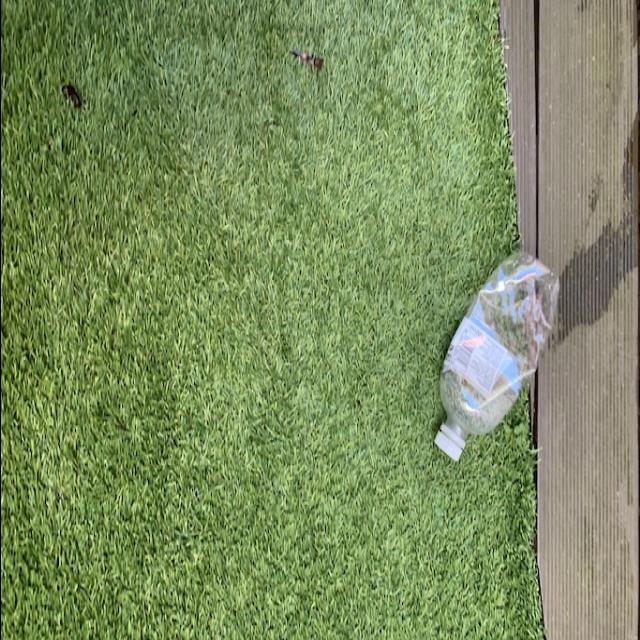PET: (430, 248, 558, 466)
